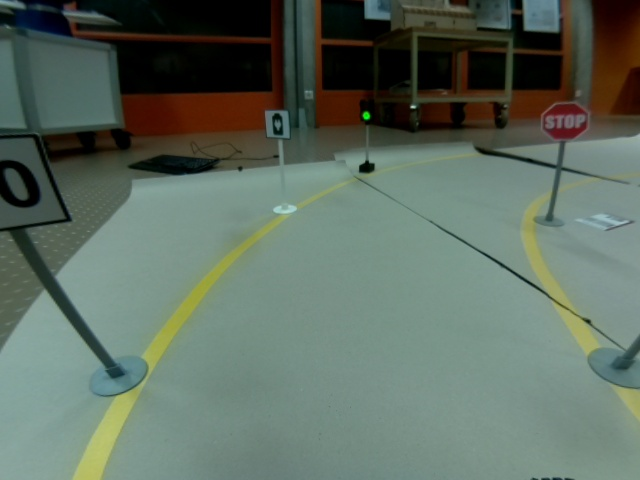battery: (263, 108, 291, 140)
speed50: (1, 128, 74, 235)
stop: (540, 100, 592, 143)
traffic light: (357, 96, 375, 124)
